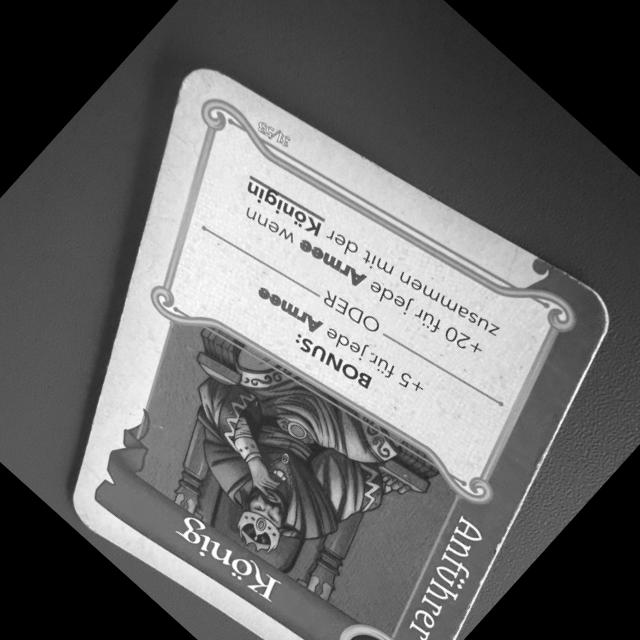King: (82, 60, 615, 640)
